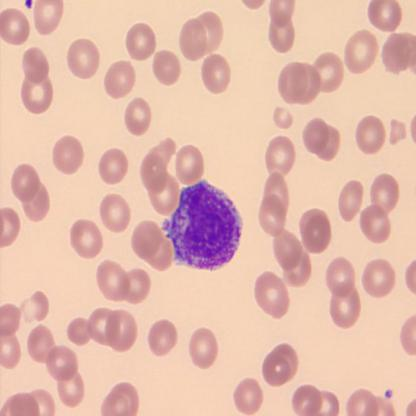Myelocyte: (166, 182, 245, 268)
